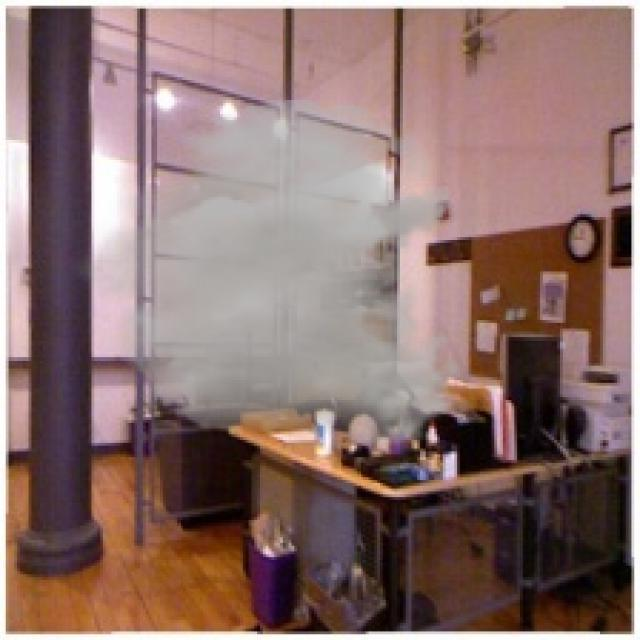Smoke: (66, 100, 466, 449)
